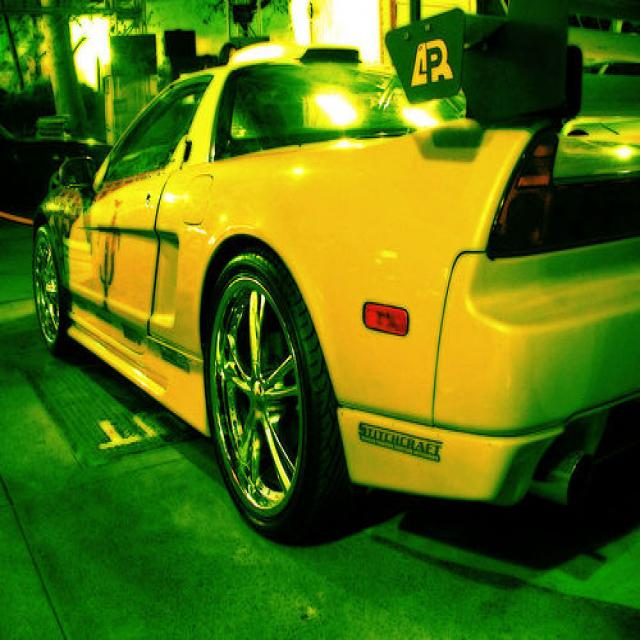Car: (30, 0, 638, 541)
